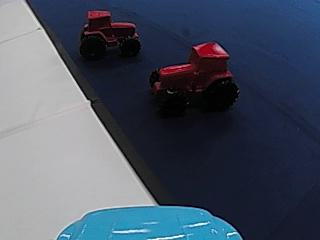Tracktor: (145, 39, 241, 111), (77, 6, 139, 58)
